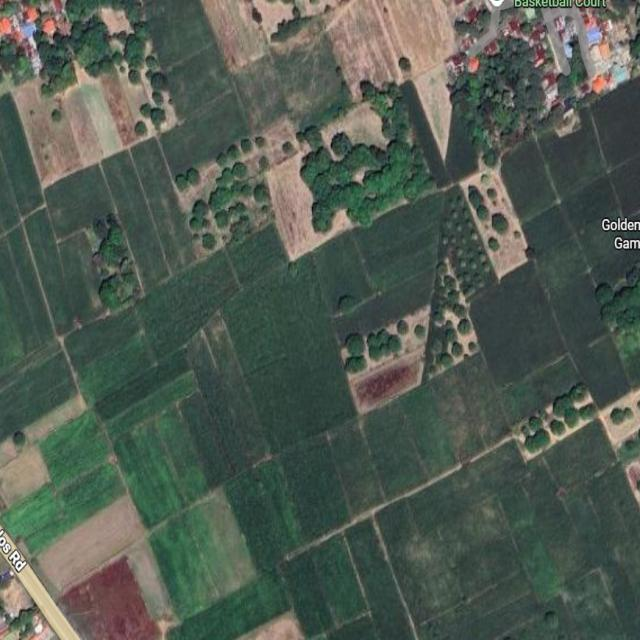Tree: (84, 20, 113, 58), (330, 180, 364, 212), (404, 169, 433, 202), (605, 287, 640, 313), (344, 144, 371, 175), (516, 80, 543, 109), (100, 279, 122, 314), (521, 429, 554, 452), (37, 43, 68, 67), (311, 202, 335, 232), (394, 100, 410, 142), (378, 160, 403, 186), (550, 102, 572, 129), (362, 170, 384, 196), (554, 392, 576, 418), (126, 35, 144, 66), (388, 140, 409, 166), (77, 44, 99, 68), (352, 202, 376, 223), (346, 333, 366, 358), (331, 134, 353, 156), (343, 356, 369, 374), (91, 217, 111, 240), (314, 176, 332, 201), (329, 161, 350, 182), (618, 306, 640, 326), (300, 165, 318, 189), (625, 258, 640, 286), (304, 151, 320, 177), (556, 71, 572, 97), (316, 144, 331, 171), (61, 63, 79, 85), (514, 56, 530, 80), (596, 284, 614, 305), (42, 61, 64, 78), (492, 213, 508, 236), (50, 76, 69, 95), (340, 296, 358, 316), (494, 108, 514, 126), (215, 167, 232, 188), (360, 78, 378, 97), (150, 71, 166, 92), (134, 20, 151, 39), (226, 142, 242, 162), (151, 108, 167, 128), (100, 239, 116, 259), (537, 115, 553, 135), (572, 380, 588, 400), (111, 226, 126, 247), (506, 56, 520, 78), (304, 123, 320, 142), (210, 191, 223, 213), (469, 76, 482, 98), (187, 167, 202, 186), (491, 54, 505, 74), (452, 88, 475, 100), (629, 33, 640, 58), (388, 81, 401, 102), (388, 333, 404, 350), (582, 403, 598, 420), (610, 410, 626, 427), (478, 8, 494, 25), (368, 346, 383, 364), (565, 408, 579, 427), (383, 120, 396, 140), (120, 272, 136, 288), (216, 210, 230, 228), (230, 178, 244, 196), (468, 124, 482, 142), (70, 22, 84, 40), (501, 91, 514, 110), (176, 174, 188, 194), (602, 313, 618, 328), (550, 419, 565, 435), (528, 415, 544, 430), (219, 187, 233, 204), (484, 150, 498, 167), (227, 206, 240, 224), (470, 189, 482, 208), (194, 200, 208, 216), (240, 136, 253, 153), (232, 160, 245, 177), (254, 182, 266, 200), (449, 290, 461, 308), (87, 62, 101, 77), (398, 55, 412, 70), (458, 318, 472, 333), (457, 97, 471, 112), (528, 64, 542, 79), (41, 84, 54, 100), (188, 218, 205, 230), (446, 275, 458, 292), (235, 200, 246, 218), (452, 102, 463, 120), (202, 232, 215, 247), (414, 325, 427, 340), (136, 120, 148, 136), (152, 92, 164, 108), (130, 68, 142, 84), (101, 57, 113, 73), (454, 302, 466, 318), (474, 139, 487, 153), (282, 139, 294, 154), (397, 319, 409, 334), (464, 283, 476, 298), (516, 38, 528, 53), (476, 204, 487, 220), (380, 344, 392, 358), (446, 328, 458, 342), (487, 239, 499, 253), (464, 218, 476, 232), (217, 153, 228, 168), (467, 339, 478, 354), (466, 108, 476, 124), (260, 157, 272, 170), (377, 329, 389, 342), (254, 134, 265, 148), (113, 51, 124, 65), (369, 333, 379, 348), (488, 187, 498, 201), (140, 105, 152, 116), (440, 352, 452, 363), (452, 342, 463, 354), (526, 248, 538, 259), (521, 21, 533, 32), (438, 263, 448, 276), (444, 216, 454, 229), (624, 406, 634, 419), (34, 28, 42, 44), (492, 93, 503, 104), (146, 56, 158, 66), (498, 41, 507, 54), (41, 33, 51, 44), (295, 130, 304, 142), (244, 183, 252, 196), (478, 277, 486, 290), (482, 262, 491, 273), (435, 340, 443, 352), (457, 273, 467, 282), (462, 208, 470, 219), (456, 248, 464, 259), (54, 31, 62, 42), (442, 234, 449, 246), (462, 234, 468, 247), (451, 236, 458, 246), (471, 260, 478, 270), (472, 230, 478, 241), (456, 223, 462, 234), (486, 85, 492, 95), (453, 212, 459, 221), (458, 197, 463, 207), (480, 253, 486, 261), (467, 274, 472, 283), (461, 261, 467, 267)
